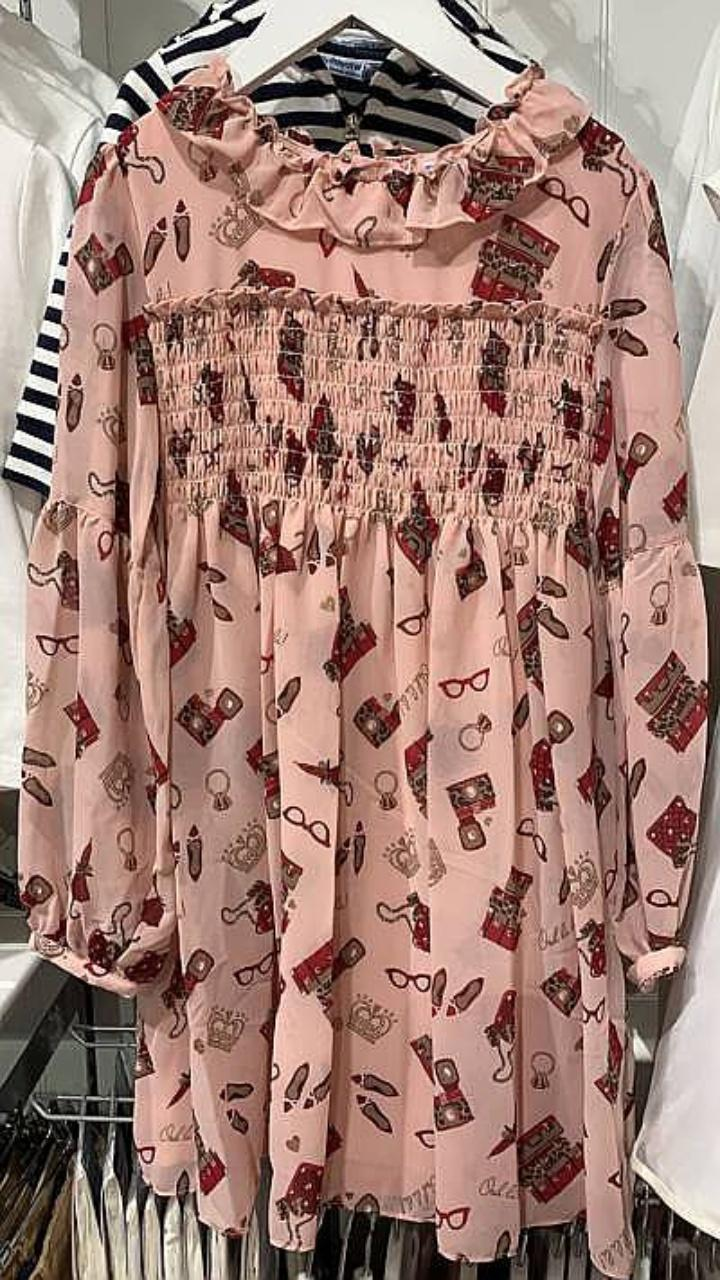Dresses: (21, 65, 705, 1276)
